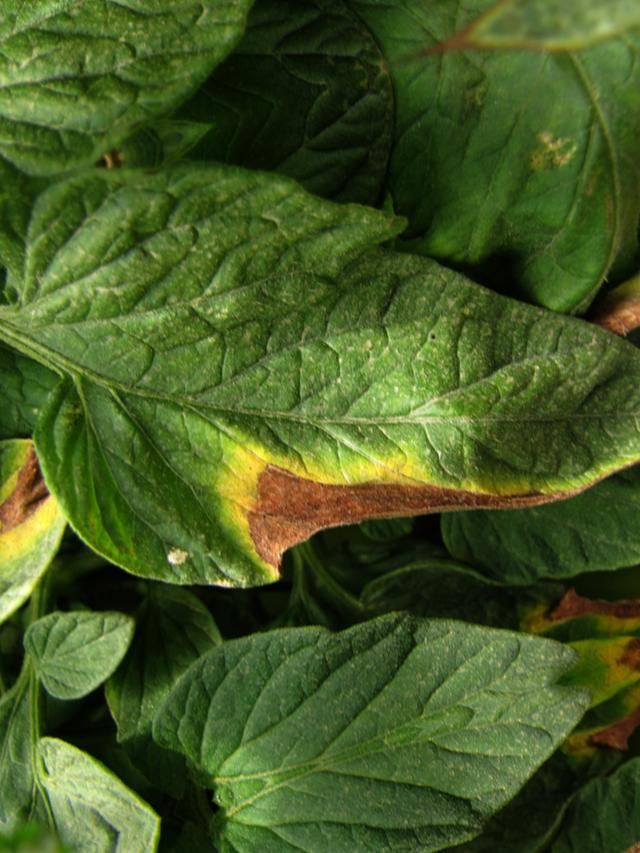Tomato leaf bacterial spot: (0, 9, 640, 663)
